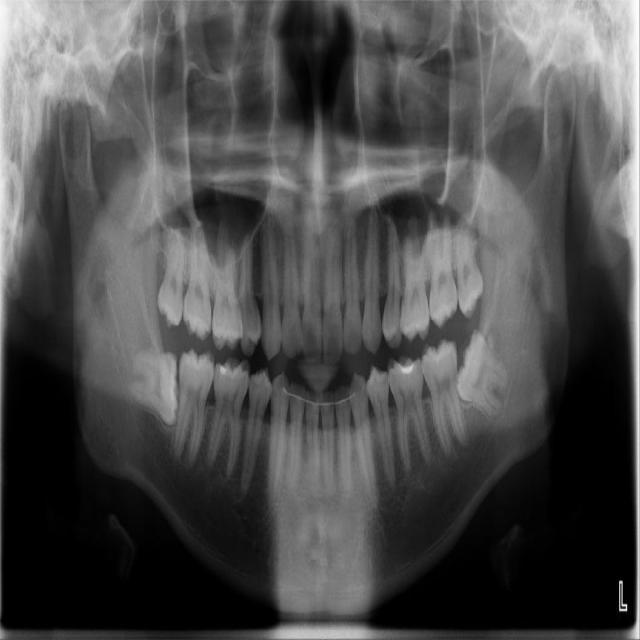3M ESPE Implant: (156, 225, 186, 328)
52: (385, 354, 427, 411), (213, 356, 251, 412)
73: (596, 582, 610, 598)
BioHorizons Implant: (428, 209, 458, 330)
BioLife Implant: (454, 212, 485, 321)
Biomet 3i Implant: (447, 327, 524, 420)
Blue Sky Bio Implant: (418, 336, 469, 462)
Caries: (181, 218, 216, 342)
Implant: (166, 346, 218, 467)
Keystone Dental Implant: (131, 350, 180, 425)
